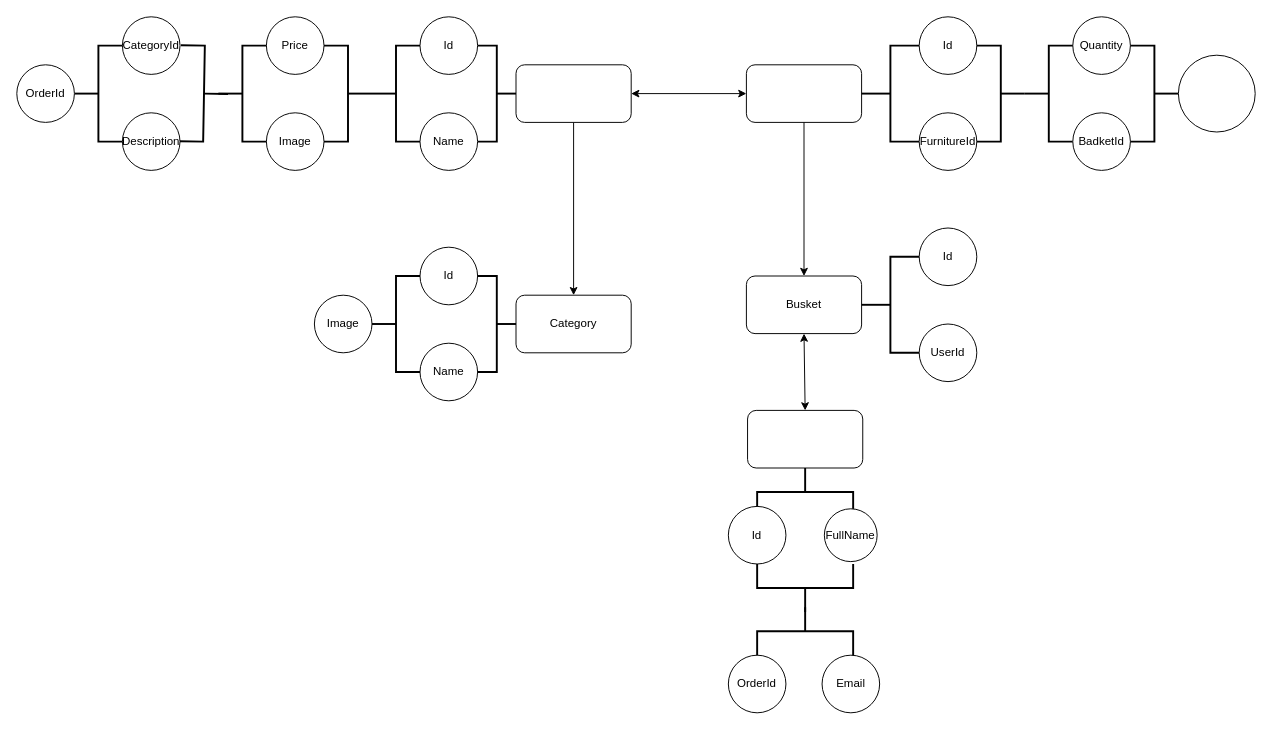
This 1272x730 diagram has some shape labels left out. Each missing label, with the centre of its shape:
"Furniture" goes at (x=573, y=93).
"Order" goes at (x=803, y=93).
"UserAccount" goes at (x=805, y=438).
"UserAccountId" goes at (x=1216, y=93).
